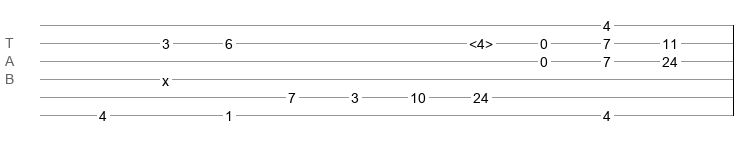0: (540, 54, 548, 64), (540, 36, 548, 46)
1: (225, 108, 233, 118)
10: (410, 90, 426, 100)
11: (662, 36, 678, 46)
24: (473, 90, 489, 100), (662, 54, 678, 64)
3: (162, 36, 170, 46), (351, 90, 359, 100)
4: (99, 108, 107, 118), (603, 108, 611, 118), (603, 18, 611, 28)
6: (225, 36, 233, 46)
7: (288, 90, 296, 100), (603, 36, 611, 46), (603, 54, 611, 64)
harmonic: (469, 36, 493, 46)
x: (162, 73, 169, 81)
